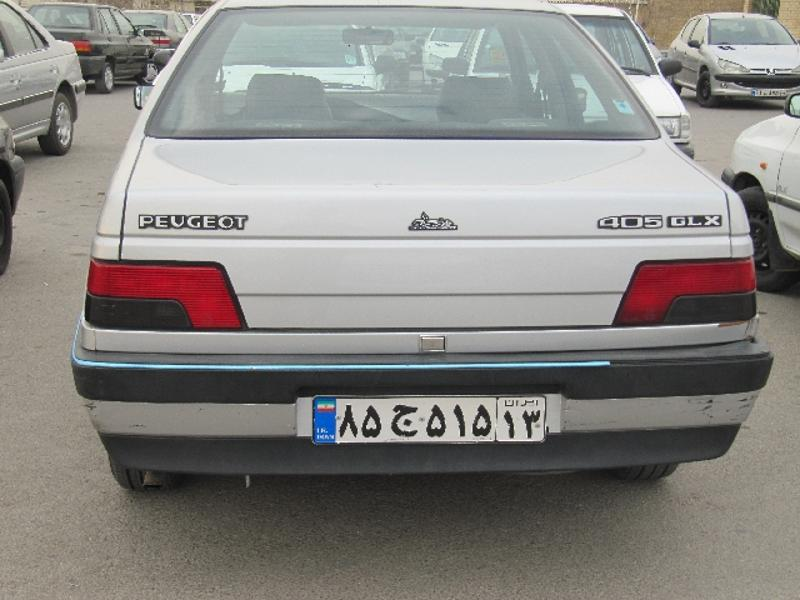Plate: (301, 371, 569, 454)
